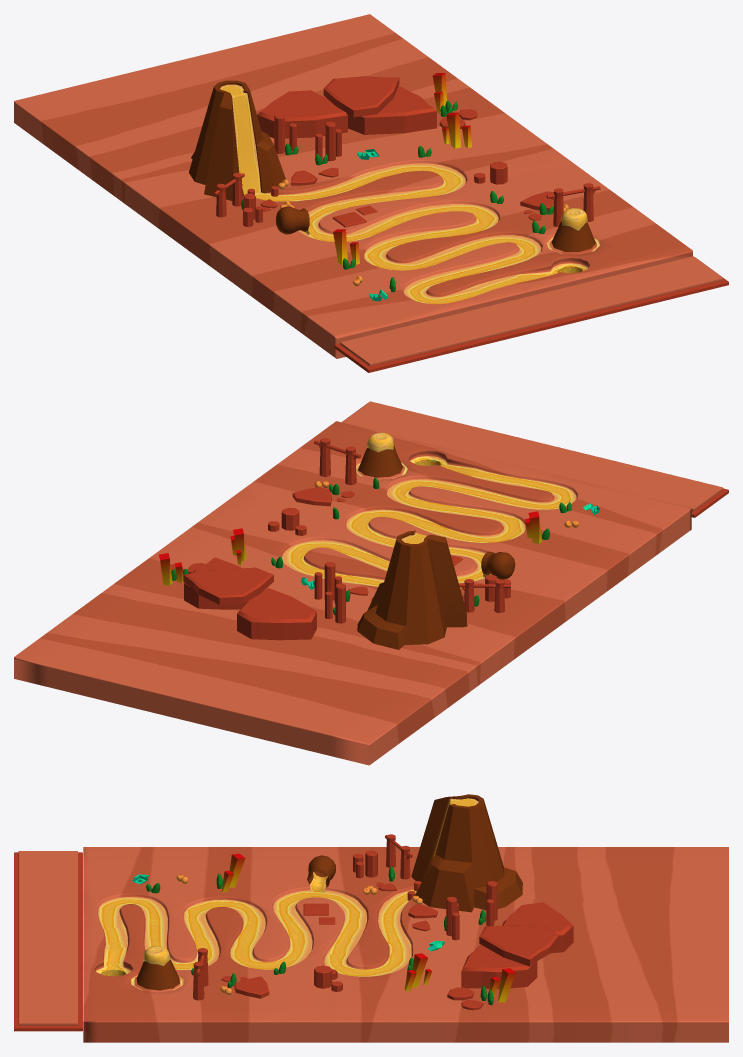
The model's file is Lava_Map.fbx.
The picture shows the model from 3 angles, top to bottom: view 1: azimuth 30°, elevation 25°; view 2: azimuth 150°, elevation 25°; view 3: azimuth 270°, elevation 25°; orthographic projection.
Visible parts, largest first — view 1: ground, tree_wood_apple; view 2: ground, tree_wood_apple; view 3: ground, tree_wood_apple.
Part boxes in pixels (left/top/right/bottom): ground: left=14, top=14, right=722, bottom=366; tree_wood_apple: left=213, top=73, right=728, bottom=372; ground: left=14, top=401, right=722, bottom=765; tree_wood_apple: left=159, top=403, right=728, bottom=640; ground: left=18, top=794, right=728, bottom=1042; tree_wood_apple: left=14, top=834, right=573, bottom=1031.
Bounding box in the file's own units: 1669 × 490 × 2866.
